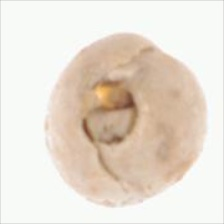L3: (78, 72, 140, 153)
L4: (43, 33, 209, 207)
